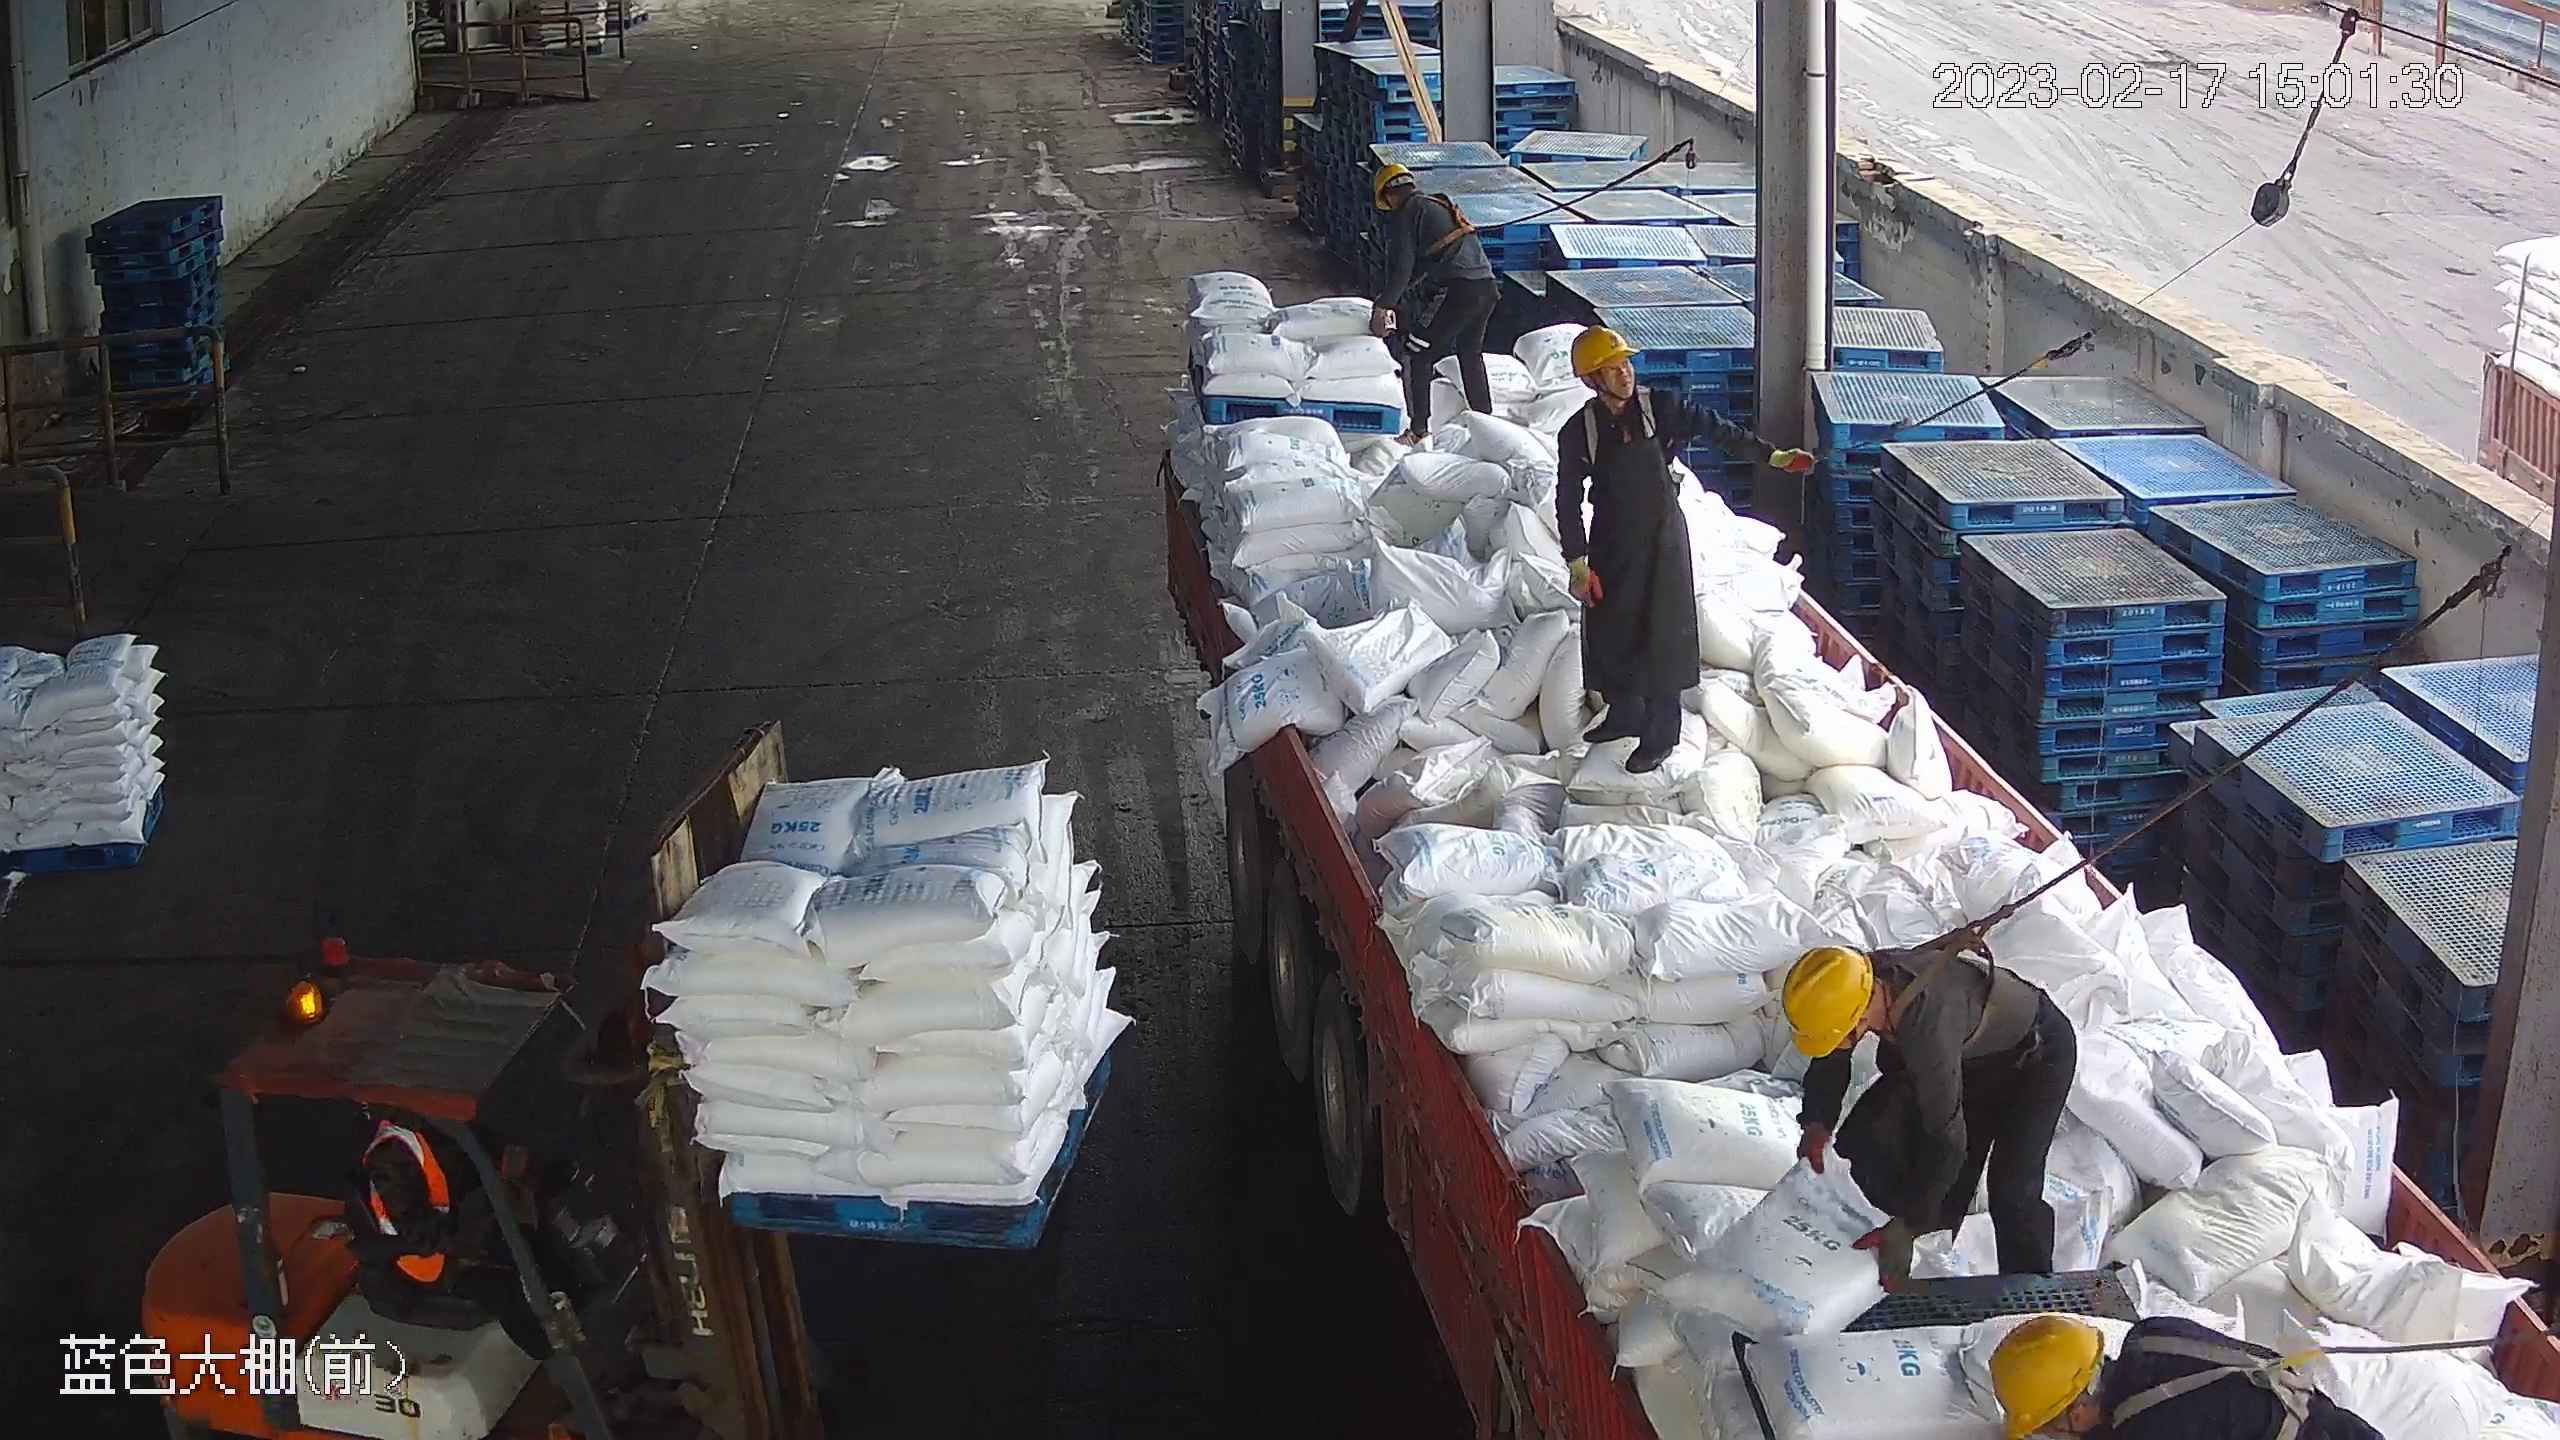belt: (2121, 1324, 2325, 1438), (1876, 912, 2017, 1052), (1408, 188, 1485, 258), (1581, 391, 1657, 454)
head: (1995, 1308, 2265, 1437), (1781, 939, 1976, 1089), (1558, 326, 1682, 457), (1373, 161, 1465, 244)
helmet: (1985, 1308, 2104, 1439), (1779, 940, 1875, 1062), (1568, 326, 1635, 378), (1374, 162, 1414, 209)
people: (1551, 324, 1805, 772), (1775, 931, 2080, 1297), (1362, 160, 1500, 444)
truck: (1156, 425, 2555, 1435)
